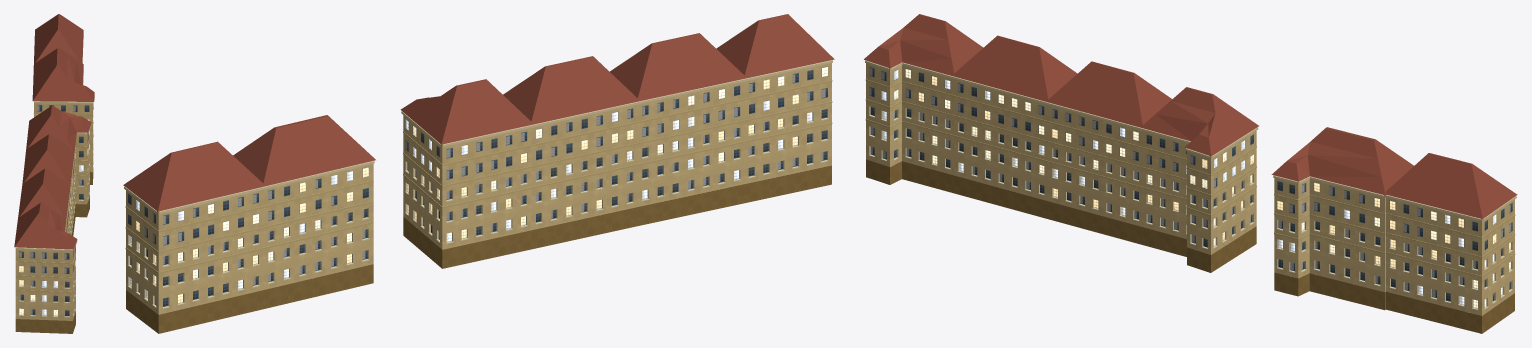
File: z3R2_eris_e.glb
3 renders of one model, left to right at view 1: azimuth 30°, elevation 25°; view 2: azimuth 150°, elevation 25°; view 3: azimuth 270°, elevation 25°, orthographic. The views are drawn at different scales.
Visible parts, largest first — view 1: z3R2_eris_e; view 2: z3R2_eris_e; view 3: z3R2_eris_e.
Boxes of the visible parts, x1,y1,x2,y2 form: z3R2_eris_e: (14, 14, 94, 333); z3R2_eris_e: (123, 14, 834, 333); z3R2_eris_e: (864, 14, 1517, 333).
Bounding box in the file's own units: 66.91 × 25.7 × 99.18.
Materials: 3 (3 with a texture image).
